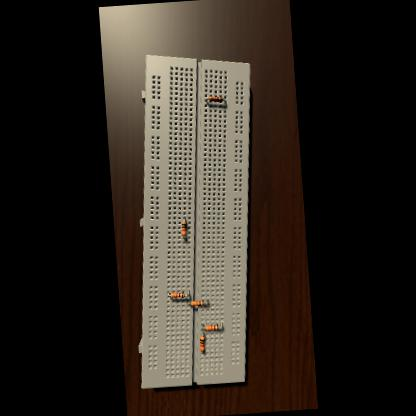breadboard: (117, 49, 272, 390)
resistor: (206, 324, 219, 332), (198, 336, 204, 352), (208, 96, 223, 102), (190, 300, 204, 306), (180, 222, 186, 236), (170, 292, 184, 298)
wire: (205, 301, 208, 304), (219, 324, 221, 328), (204, 324, 206, 328), (186, 292, 188, 296), (168, 292, 170, 296), (224, 100, 226, 103), (206, 100, 209, 102), (183, 218, 185, 221), (188, 301, 190, 304), (184, 236, 184, 238)
